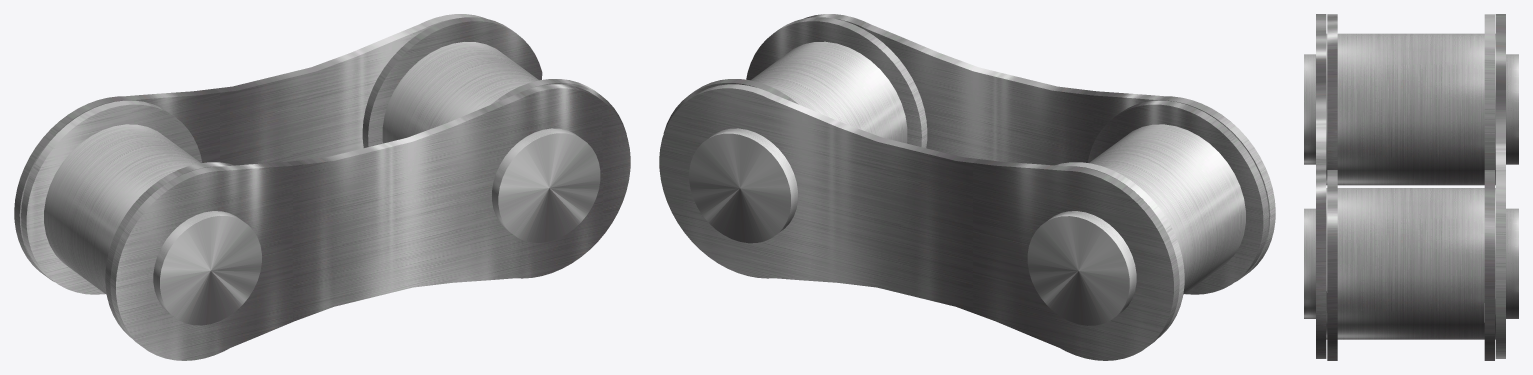
Rendered from 自転車のチェーンパーツ.fbx.
The picture shows the model from 3 angles, left to right: view 1: azimuth 30°, elevation 25°; view 2: azimuth 150°, elevation 25°; view 3: azimuth 270°, elevation 25°; orthographic projection. The views are drawn at different scales.
Visible parts, largest first — view 1: パーツ1; view 2: パーツ1; view 3: パーツ1.
Boxes of the visible parts, x1,y1,x2,y2 form: パーツ1: (14,14,630,360); パーツ1: (659,14,1275,360); パーツ1: (1304,14,1518,360).
Bounding box in the file's own units: 319 × 109 × 122.
1 material, 1 textured.
